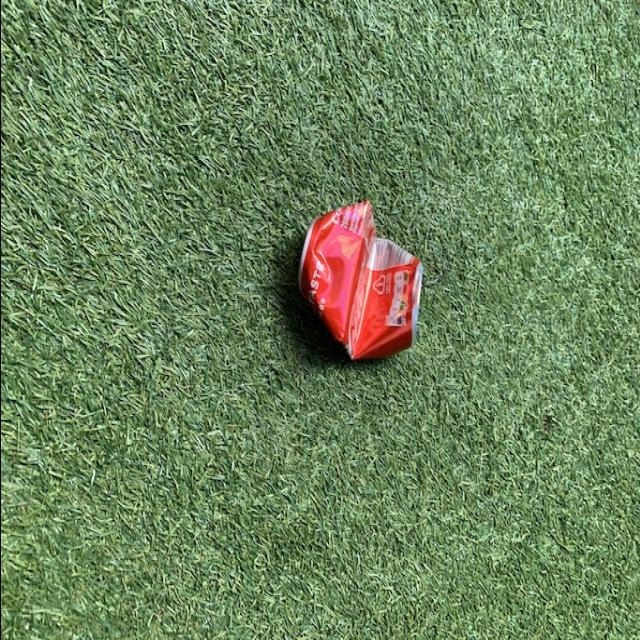Aluminum Can: (288, 196, 424, 372)
